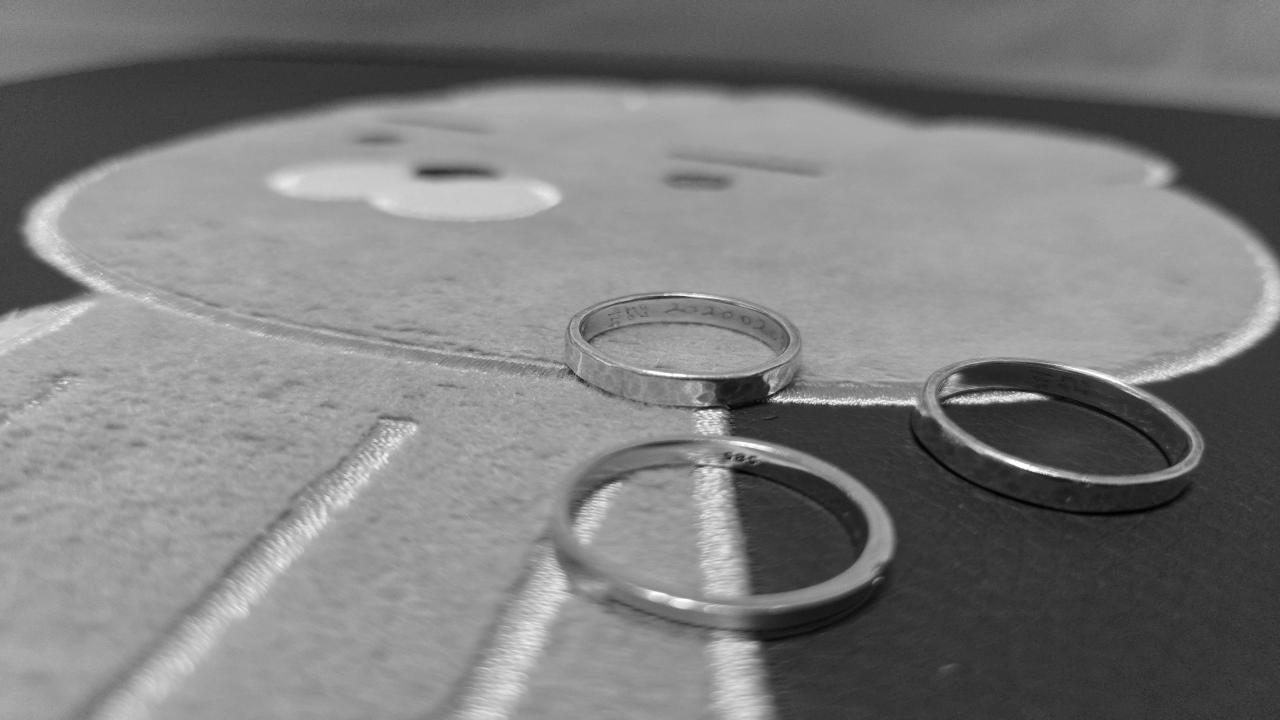ring: (563, 433, 893, 634), (911, 356, 1213, 511), (561, 289, 807, 409)
